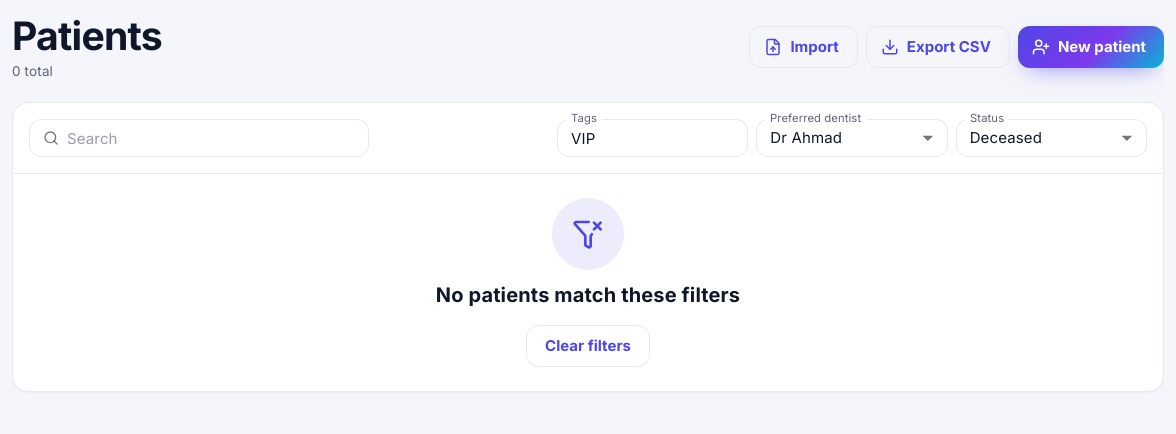
patient list filters › sends URL filters to the API and offers to clear them when nothing matches
The image size is (1176, 434).
Check: the text "No patients match these filters" is shown, box [436, 282, 740, 310]
Click the button "Clear filters".
click(588, 346)  # box [526, 326, 650, 368]
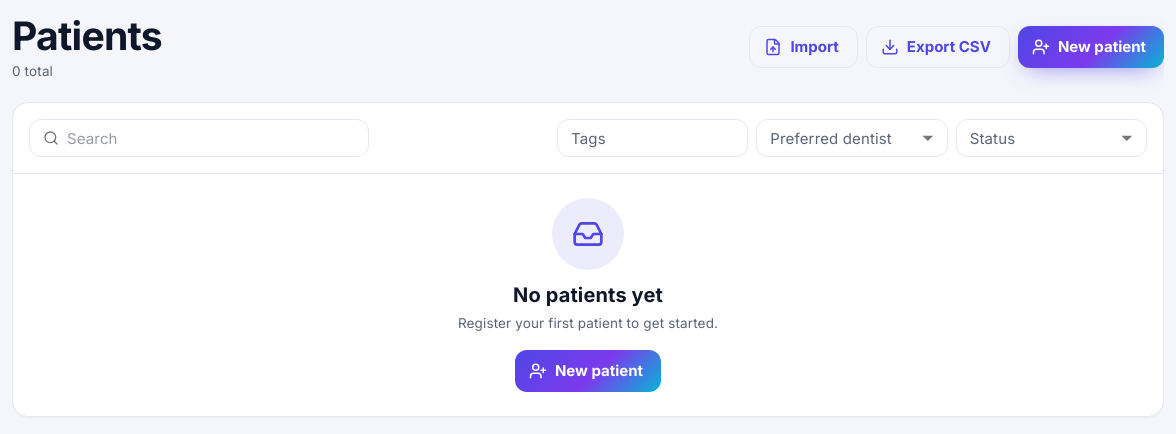
Check: the text "No patients yet" is shown, box [513, 282, 663, 310]
